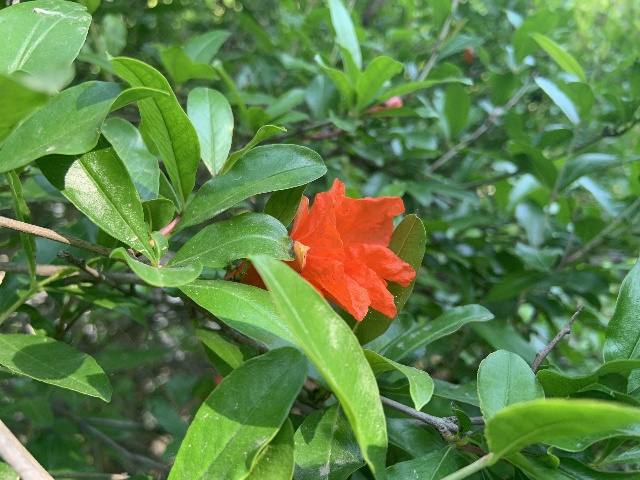flower: (225, 176, 416, 322)
